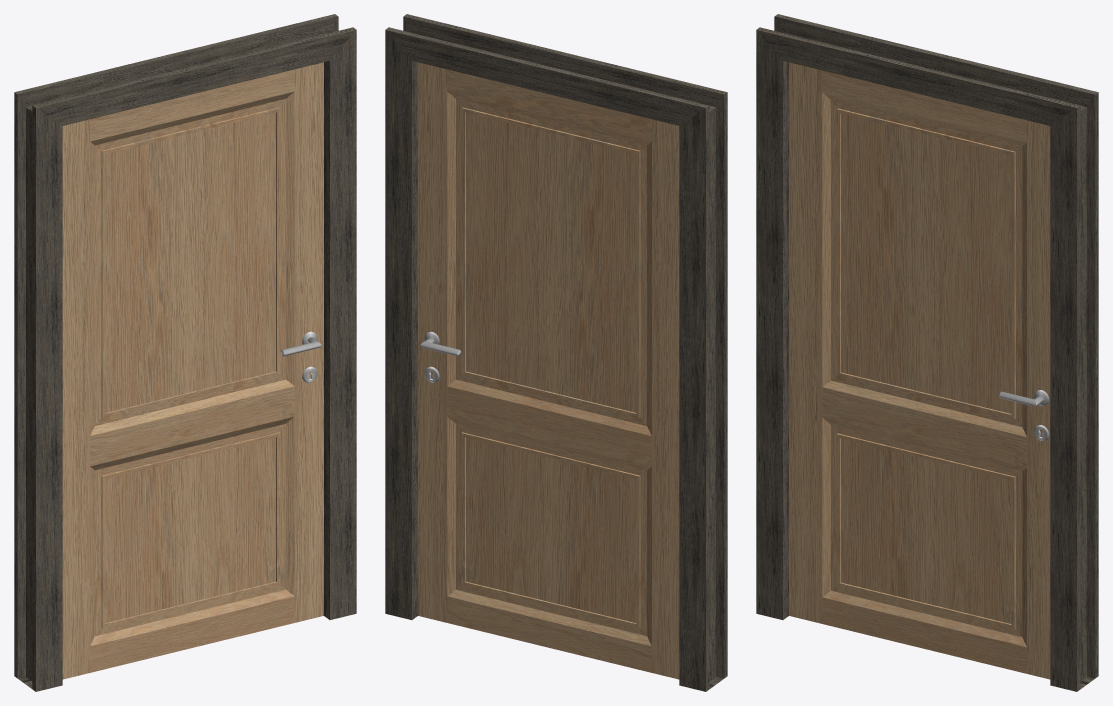
3 views of the same model, side by side, from view 1: azimuth 30°, elevation 25°; view 2: azimuth 150°, elevation 25°; view 3: azimuth 330°, elevation 25° (orthographic).
Visible parts, largest first — view 1: Door1, Frame, Lock; view 2: Door1, Frame, Lock; view 3: Door1, Frame, Lock.
Boxes of the visible parts, x1,y1,x2,y2 form: Door1: [62, 62, 323, 679]; Frame: [14, 14, 356, 691]; Lock: [280, 331, 321, 382]; Door1: [418, 62, 679, 679]; Frame: [385, 14, 727, 691]; Lock: [420, 331, 461, 382]; Door1: [789, 62, 1050, 679]; Frame: [756, 14, 1098, 691]; Lock: [999, 390, 1049, 440].
Size of the model in its own units: 1.26 by 2.2 by 0.1866.
3 materials, 3 textured.
